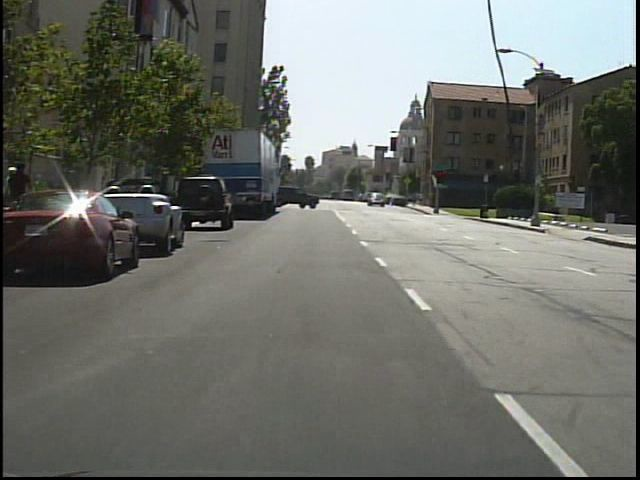person: (9, 159, 39, 242), (5, 165, 34, 227)
